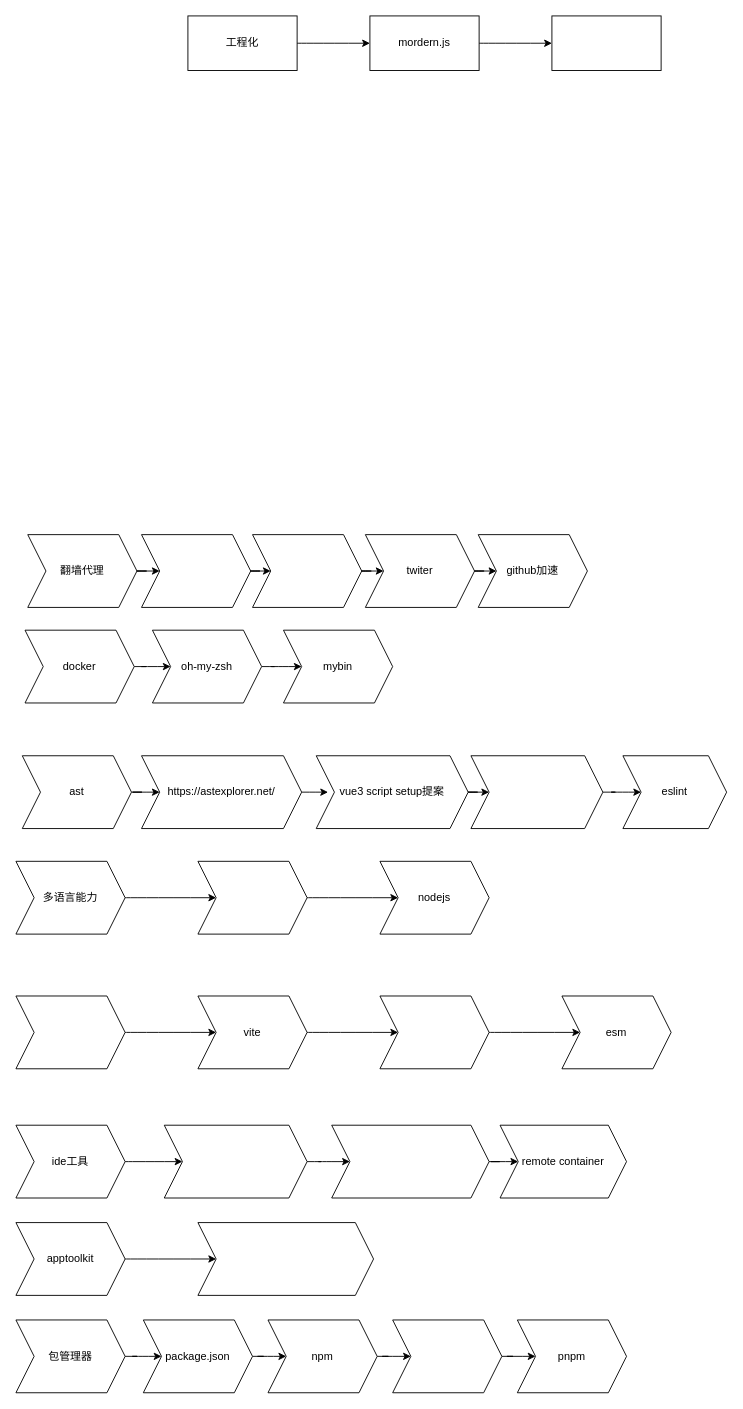
The diagram is 743 pixels wide and 1409 high, and some of its shapes have lost their labels. The centre of each missing label's shape, as x and y in pixels:
"console.log增强 调试诊断信息" goes at point 536,792.
"esbuild" goes at point 434,1032.
"go" goes at point 252,897.
"google" goes at point 196,570.
"remote ssh" goes at point 410,1161.
"vscode 远程开发" goes at point 235,1161.
"yarn" goes at point 447,1356.
"youtube" goes at point 307,570.
"一键安装 nodejs 开发环境" goes at point 285,1258.
"微前端" goes at point 606,43.
"编译工具" goes at point 70,1032.
